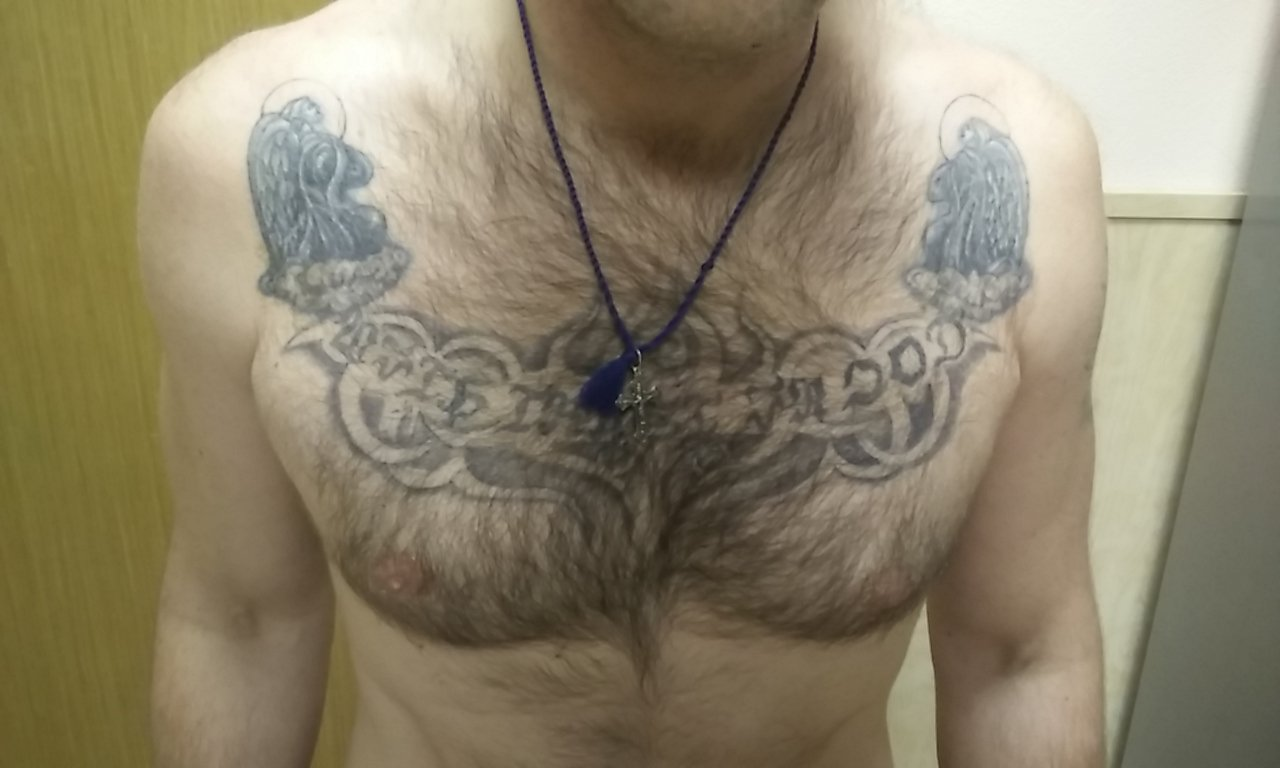tatu1_angel: (228, 64, 418, 326), (878, 92, 1059, 316)
tatu3_bukva: (284, 305, 1029, 502)
